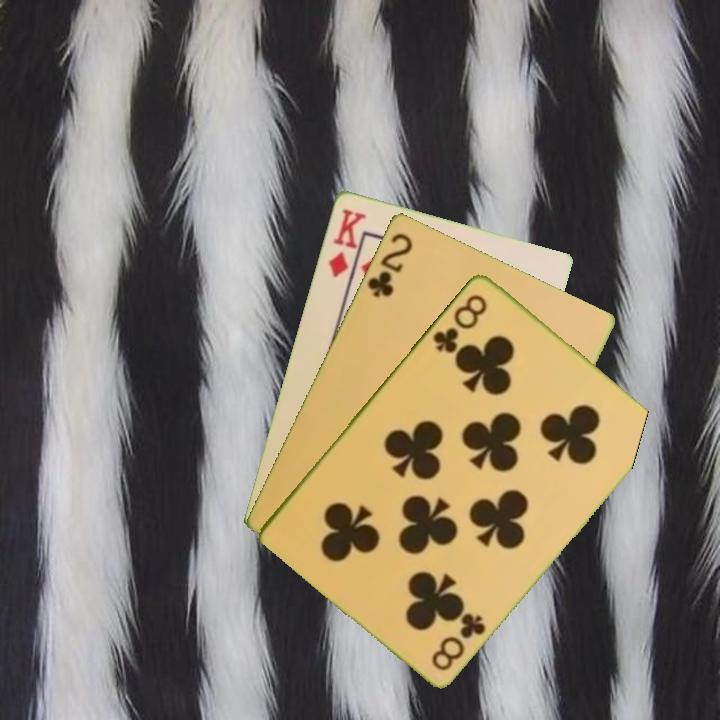2c: (363, 229, 416, 300)
8c: (427, 608, 489, 674), (429, 290, 490, 356)
Kd: (324, 204, 369, 280)
